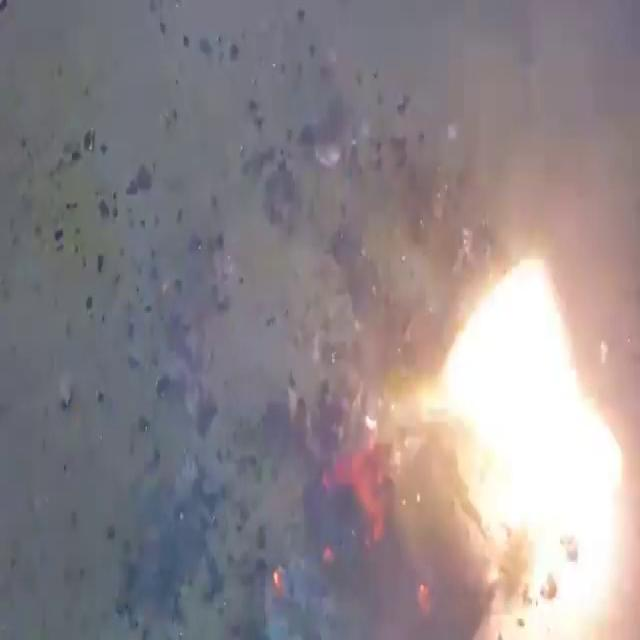Fire: (3, 4, 635, 636), (425, 249, 626, 627)
